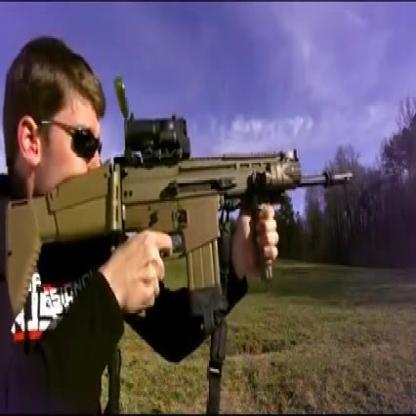Gun: (0, 114, 354, 316)
